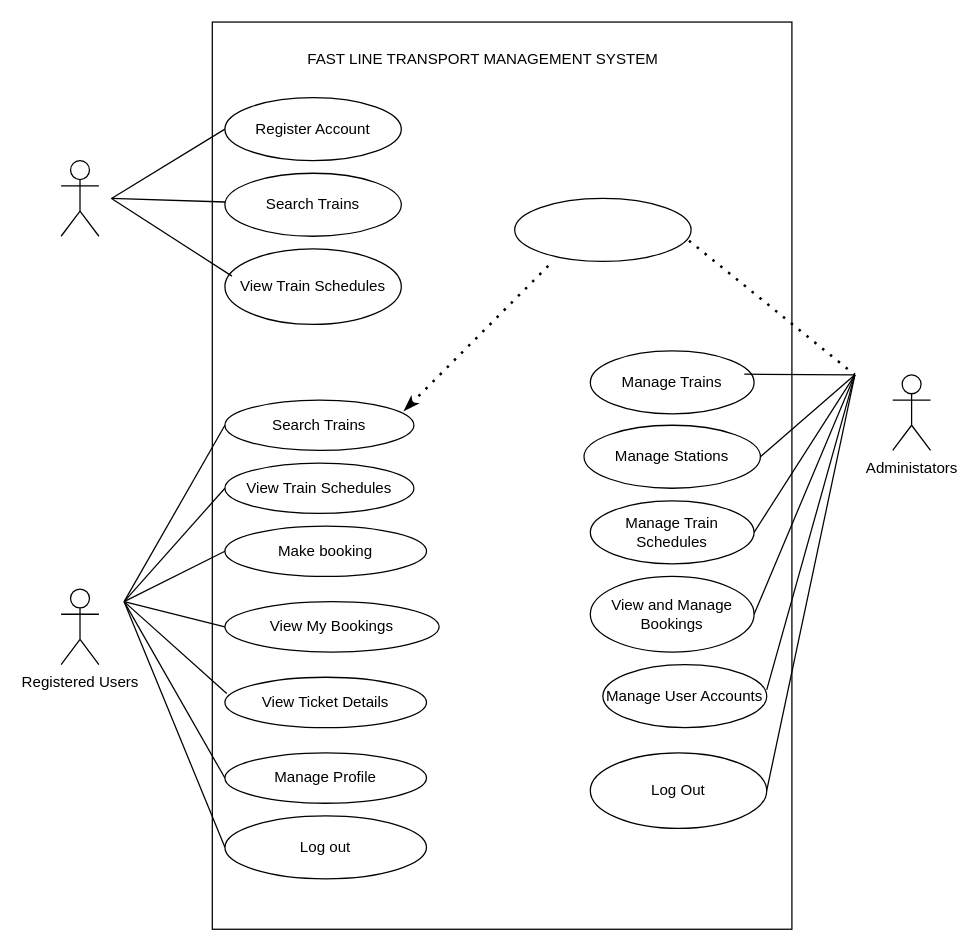
This 979x951 diagram has some shape labels left out. Here are the shapes that lost their labels. From the top down, the centre of each, then its label:
(x=79, y=197): Guest Users
(x=602, y=229): Log in
